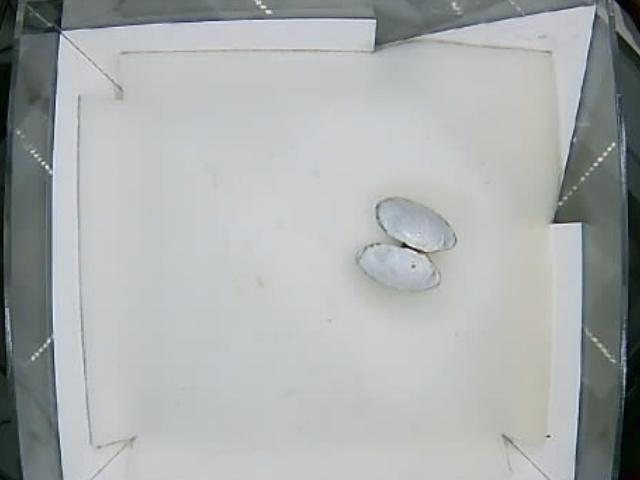Shell: (359, 197, 458, 293)
